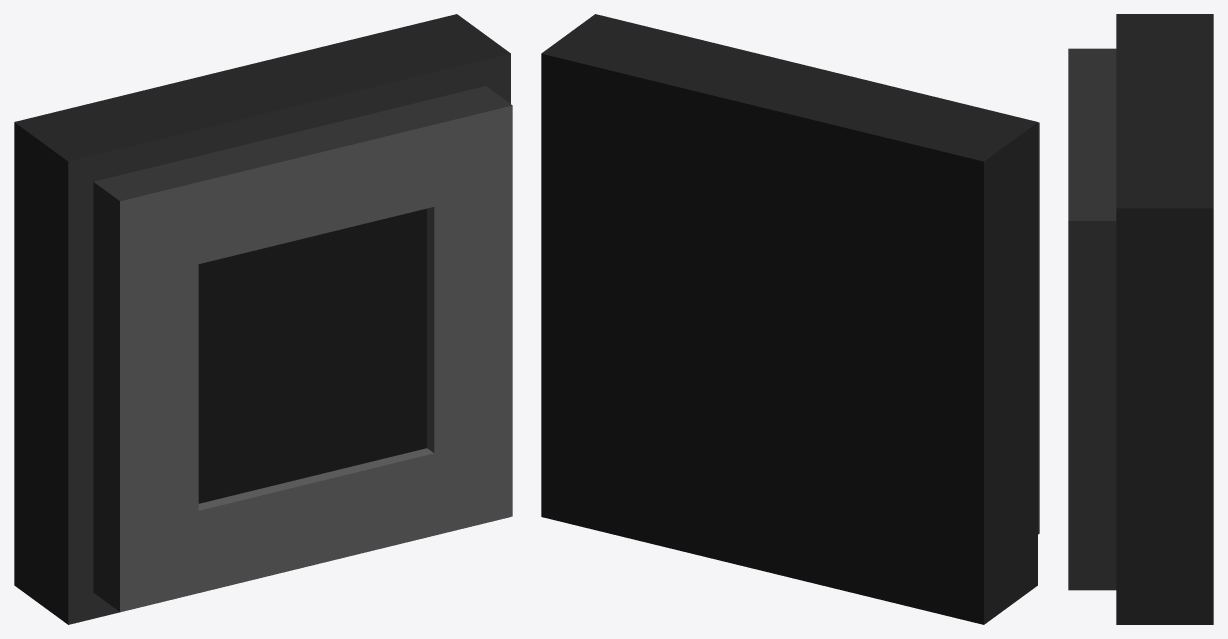
File: luxcapacitor_base.obj
3 views of the same model, side by side, from view 1: azimuth 30°, elevation 25°; view 2: azimuth 150°, elevation 25°; view 3: azimuth 270°, elevation 25° (orthographic). The views are drawn at different scales.
Parts seen in each view (by area): view 1: lightBase; view 2: lightBase; view 3: lightBase.
Boxes of the visible parts, x1,y1,x2,y2 form: lightBase: (14, 14, 512, 624); lightBase: (541, 14, 1039, 624); lightBase: (1068, 14, 1213, 624).
Bounding box in the file's own units: 0.8063 × 0.8063 × 0.2549.
